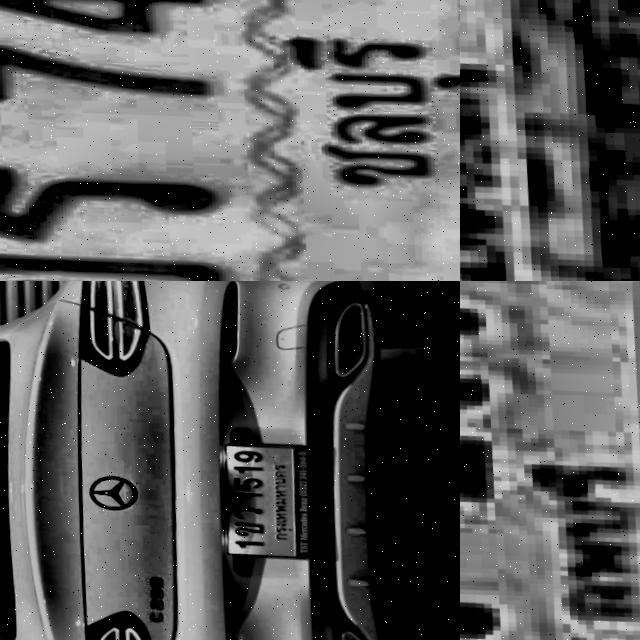license-plate: (0, 0, 460, 281), (460, 281, 640, 640), (460, 0, 640, 281), (214, 425, 319, 557)
